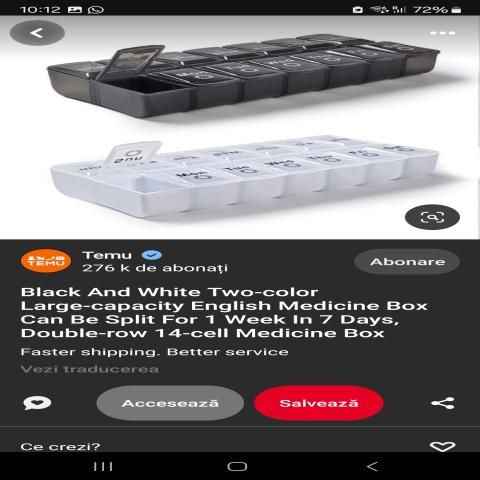Pill-box: (47, 14, 458, 129), (25, 121, 450, 219)
